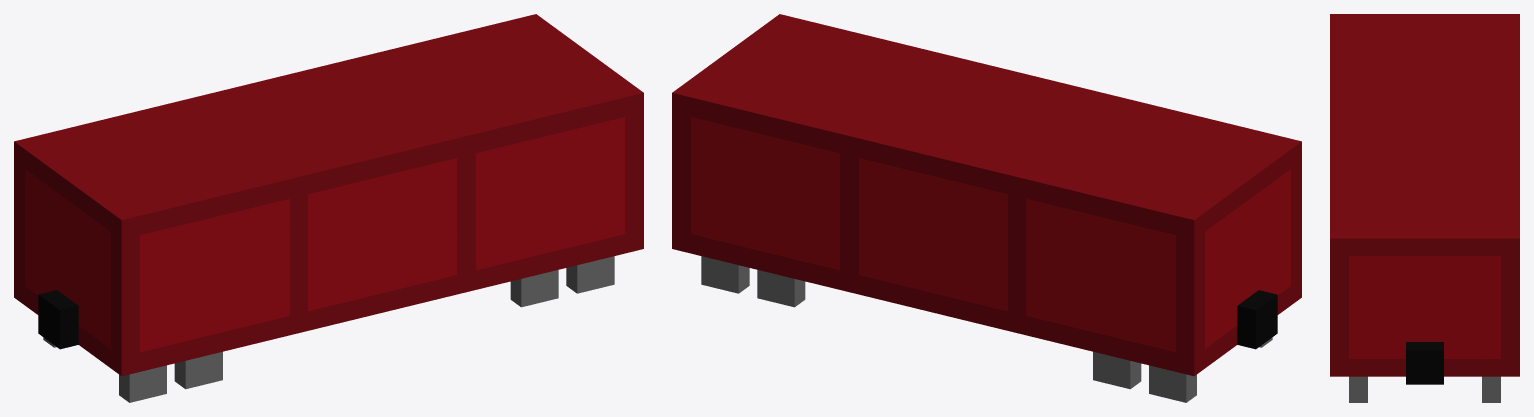
The model's file is car_box_closed_red.dae.
The picture shows the model from 3 angles, left to right: view 1: azimuth 30°, elevation 25°; view 2: azimuth 150°, elevation 25°; view 3: azimuth 270°, elevation 25°; orthographic projection. The views are drawn at different scales.
Visible parts, largest first — view 1: car_box_closed_red; view 2: car_box_closed_red; view 3: car_box_closed_red.
Part boxes in pixels (x1,y1,x2,y2): car_box_closed_red: [14, 14, 643, 402]; car_box_closed_red: [672, 14, 1301, 402]; car_box_closed_red: [1330, 14, 1519, 402].
Bounding box in the file's own units: 3 × 1 × 1.
1 material, 1 textured.
